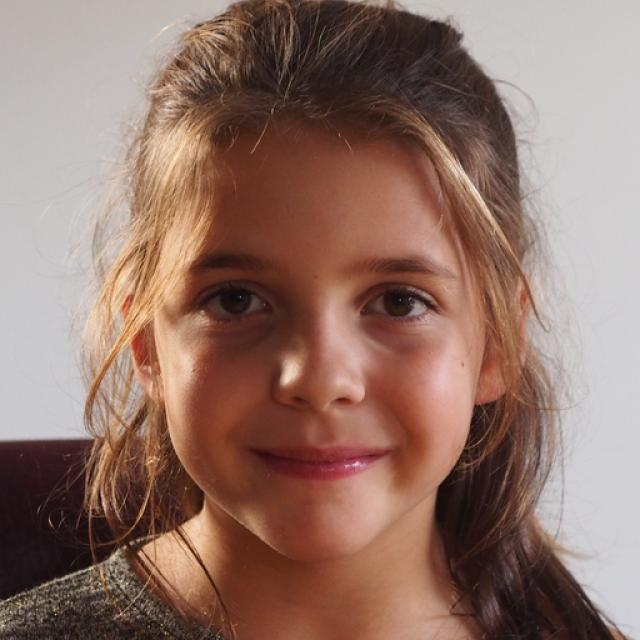happy: (158, 110, 482, 561)
